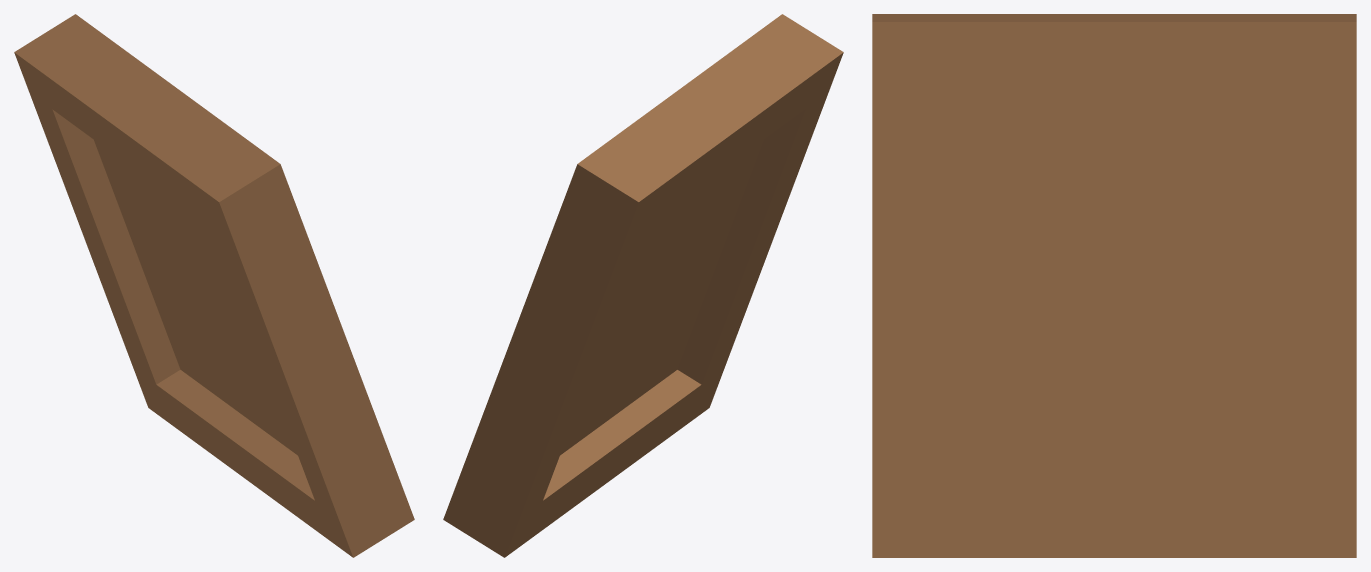
File: Beehive_1 Lid.fbx
The picture shows the model from 3 angles, left to right: view 1: azimuth 30°, elevation 25°; view 2: azimuth 150°, elevation 25°; view 3: azimuth 270°, elevation 25°; orthographic projection. The views are drawn at different scales.
Parts seen in each view (by area): view 1: BeehiveLid_mesh; view 2: BeehiveLid_mesh; view 3: BeehiveLid_mesh.
Part boxes in pixels (box(x1,y1,x2,y2)): BeehiveLid_mesh: box(14, 14, 414, 557); BeehiveLid_mesh: box(443, 14, 843, 557); BeehiveLid_mesh: box(872, 14, 1356, 557).
Bounding box in the file's own units: 29.36 × 59.03 × 53.29.
